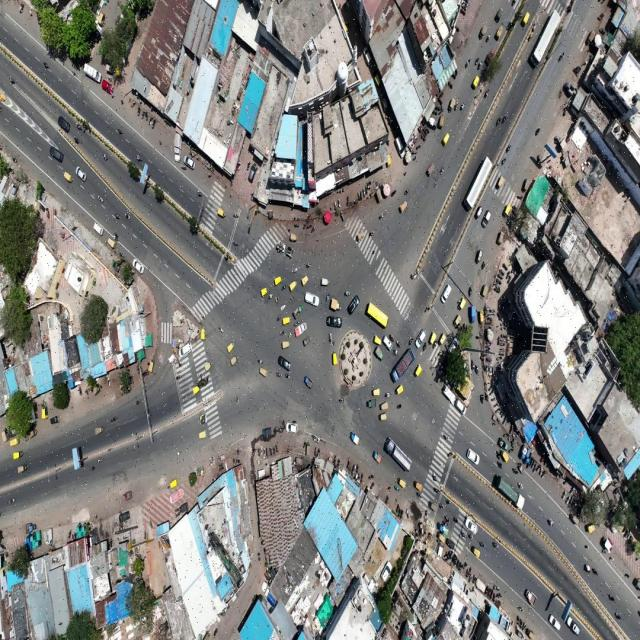3W: (495, 174, 506, 193), (570, 509, 581, 526), (470, 75, 481, 91), (229, 352, 239, 369), (474, 249, 484, 265), (63, 169, 73, 185), (413, 479, 424, 493), (521, 10, 530, 27), (437, 115, 447, 130), (453, 312, 462, 328), (584, 524, 596, 536), (428, 500, 438, 514), (397, 198, 408, 210), (260, 287, 270, 300), (442, 132, 452, 145), (272, 274, 282, 287), (106, 237, 117, 248), (169, 477, 179, 489), (28, 426, 40, 436), (216, 206, 226, 218), (557, 52, 565, 67), (18, 462, 28, 474), (395, 382, 404, 395), (379, 400, 388, 413), (414, 365, 423, 378), (427, 163, 435, 177), (496, 22, 503, 38), (483, 278, 491, 292), (199, 326, 206, 342), (204, 360, 213, 372), (321, 274, 330, 286), (499, 230, 507, 243), (356, 230, 364, 243), (378, 412, 388, 422), (94, 427, 104, 437), (372, 386, 381, 397), (42, 406, 49, 420), (226, 341, 234, 353), (282, 315, 290, 327), (149, 361, 156, 374), (290, 279, 297, 292), (505, 203, 512, 216), (259, 367, 268, 377), (10, 437, 20, 446), (300, 276, 309, 286), (447, 539, 455, 550), (459, 298, 465, 312), (439, 534, 446, 546), (374, 336, 381, 348), (430, 331, 436, 345), (502, 448, 508, 462), (200, 430, 208, 440), (192, 385, 200, 395), (12, 451, 22, 459), (282, 339, 290, 349), (440, 333, 446, 345), (472, 548, 479, 558), (331, 353, 337, 363), (480, 311, 486, 321)
Bus: (532, 8, 560, 68), (466, 148, 492, 208), (366, 298, 389, 329)
Cars: (413, 327, 428, 352), (567, 613, 580, 638), (304, 288, 320, 308), (276, 352, 292, 370), (348, 293, 360, 316), (50, 145, 64, 164), (456, 397, 469, 417), (178, 340, 194, 356), (132, 256, 146, 274), (466, 448, 480, 466), (58, 115, 71, 134), (482, 207, 494, 227), (464, 518, 479, 534), (550, 612, 562, 632), (101, 76, 113, 95), (75, 165, 88, 182), (441, 284, 451, 306), (445, 384, 455, 405), (326, 316, 342, 329), (382, 334, 394, 350), (93, 222, 105, 235), (286, 420, 298, 433), (474, 205, 484, 220), (185, 155, 195, 169), (50, 414, 61, 425)
LCV: (374, 343, 386, 365), (525, 588, 537, 607), (174, 134, 182, 162), (294, 322, 307, 338), (301, 374, 314, 389), (397, 474, 408, 490), (440, 522, 450, 539), (292, 305, 304, 318), (350, 430, 359, 447), (122, 488, 134, 500), (373, 450, 382, 466), (367, 396, 376, 412), (301, 336, 314, 347), (332, 298, 341, 313), (500, 436, 509, 449), (262, 426, 272, 436), (471, 307, 477, 323), (26, 522, 38, 530)
M2W: (442, 429, 451, 445), (283, 370, 294, 383), (444, 494, 454, 508), (285, 294, 295, 306), (41, 58, 51, 70), (100, 151, 109, 164), (111, 210, 120, 223), (477, 56, 485, 70), (198, 414, 206, 428), (496, 458, 504, 472), (8, 495, 18, 506), (464, 55, 471, 70), (517, 479, 525, 492), (342, 288, 352, 298), (116, 125, 125, 136), (136, 152, 144, 164), (614, 609, 622, 621), (395, 400, 403, 412), (547, 517, 554, 530), (109, 414, 119, 423), (368, 228, 377, 238), (451, 516, 460, 526), (428, 471, 438, 480), (280, 301, 288, 312), (584, 541, 592, 552), (287, 329, 294, 341), (500, 156, 507, 168), (472, 54, 479, 66), (502, 112, 508, 126), (608, 593, 615, 605), (476, 362, 483, 374), (72, 134, 79, 146), (124, 209, 131, 221), (196, 188, 203, 200), (324, 290, 331, 302), (96, 456, 105, 465), (495, 542, 504, 551), (582, 564, 590, 574), (280, 282, 288, 292), (478, 394, 484, 407), (134, 398, 141, 409), (517, 463, 524, 474), (388, 332, 395, 343), (454, 99, 461, 110), (404, 186, 411, 197), (97, 193, 104, 204), (496, 113, 502, 125), (232, 212, 241, 220), (460, 101, 468, 110), (218, 324, 224, 336), (234, 396, 242, 405), (75, 120, 81, 132), (438, 502, 445, 512), (379, 210, 386, 220), (257, 356, 264, 366), (494, 449, 501, 459), (459, 530, 466, 540), (468, 286, 474, 297), (485, 33, 492, 42), (395, 339, 402, 348), (293, 318, 300, 327), (479, 541, 486, 550), (483, 90, 490, 99), (175, 374, 182, 383), (274, 296, 280, 306), (535, 125, 540, 137), (305, 261, 311, 271), (339, 394, 345, 404), (438, 166, 444, 176), (506, 144, 511, 156), (470, 359, 476, 369), (275, 313, 282, 321), (290, 268, 298, 275), (88, 464, 95, 472), (385, 389, 390, 400), (393, 348, 399, 357), (20, 4, 26, 13), (510, 468, 516, 477), (594, 567, 600, 576), (232, 239, 238, 248), (280, 329, 286, 338), (444, 515, 450, 524), (469, 532, 474, 542), (276, 371, 283, 378), (181, 164, 187, 171), (433, 488, 439, 495), (416, 491, 421, 499)
MAV: (496, 470, 528, 512), (383, 432, 413, 473)
Truck: (390, 342, 414, 386)
